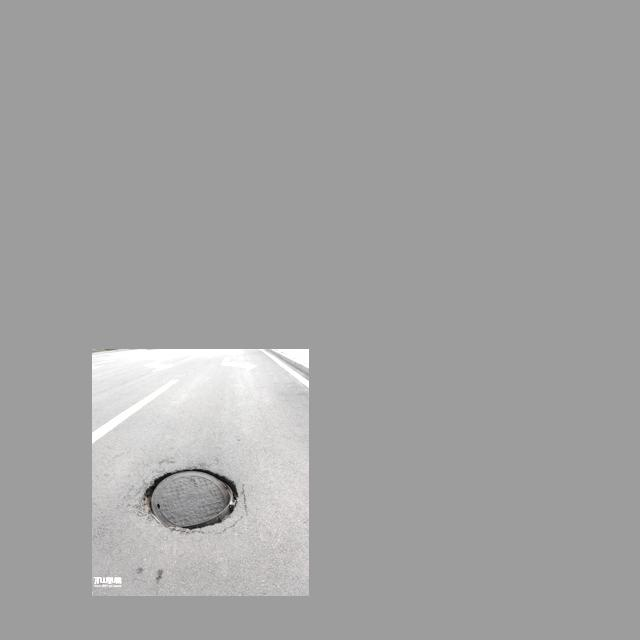circle: (133, 463, 254, 535)
